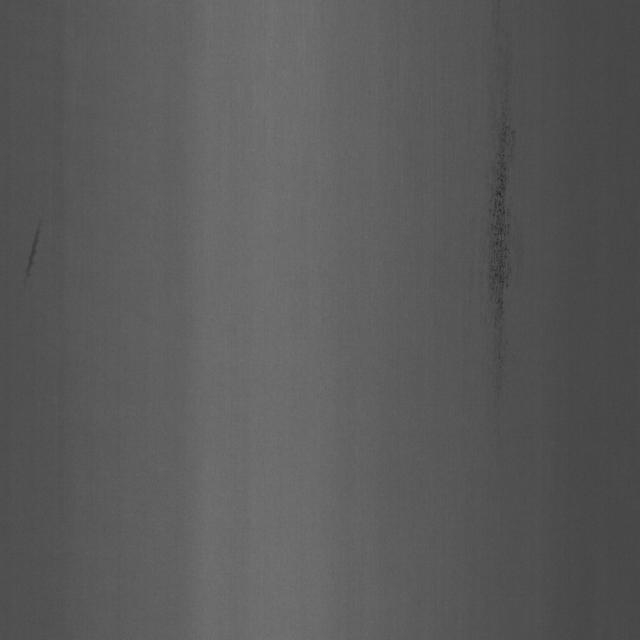oil_spot: (466, 108, 540, 387)
